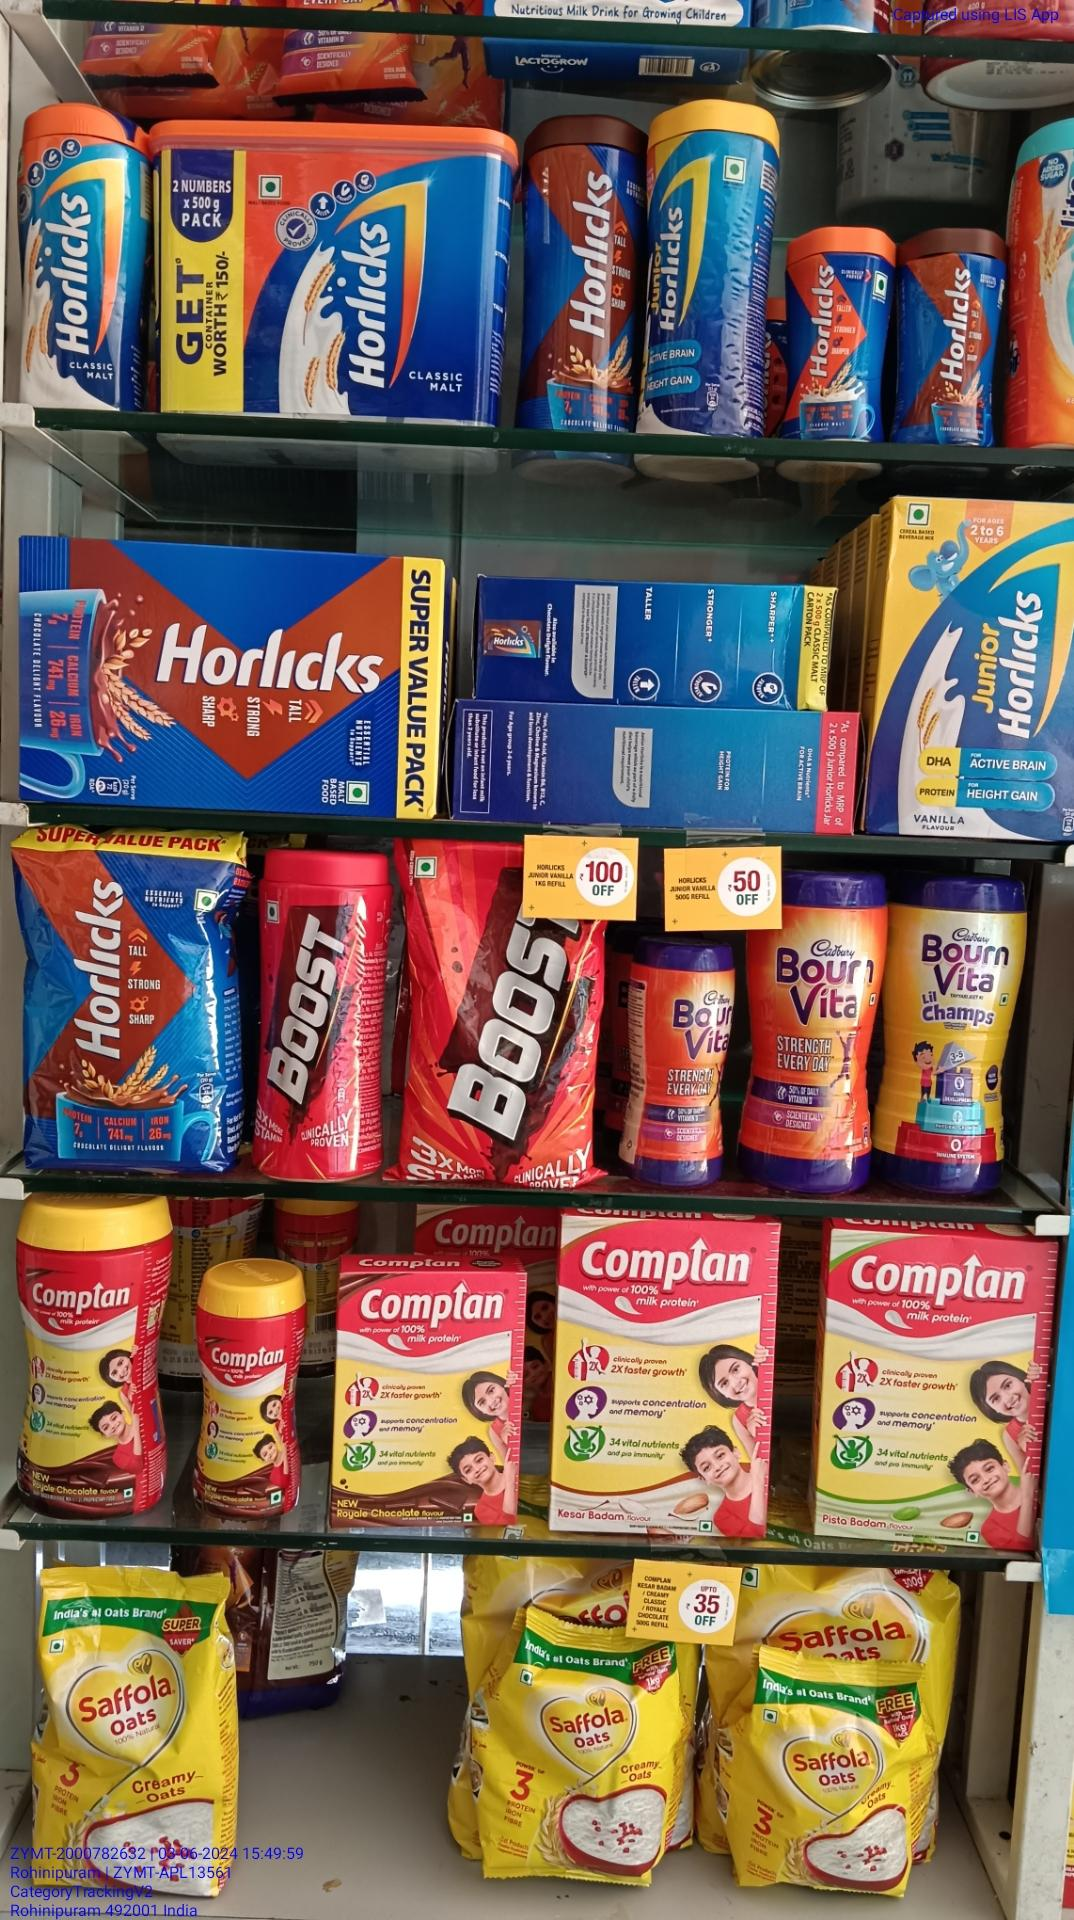BOURN_VITA_200_G_JAR: (624, 945, 719, 1188)
BOURN_VITA_500_G_JAR: (753, 878, 875, 1192)
COMPLAN_CHOCOLATE_200_GMS_JAR: (191, 1288, 301, 1520)
COMPLAN_CHOCOLATE_200_GMS_PACK: (330, 1270, 519, 1523)
COMPLAN_CHOCOLATE_500_GMS_JAR: (7, 1192, 179, 1509)
COMPLAN_KESAR_BADAM_500_GMS_PACK: (558, 1221, 767, 1551)
COMPLAN_PISTA_BADAM_500_GMS_PACK: (822, 1236, 1034, 1538)
HORLICKS_JUNIOR_VANILLA_500_GM_JAR: (645, 104, 769, 442)
HORLICK_CHOCOLATE_200_G_JAR: (904, 228, 995, 447)
HORLICK_CHOCOLATE_500_G_JAR: (888, 885, 1016, 1195), (526, 111, 631, 434)
HORLICK_CHOCOLATE_750_G_POUCH: (13, 827, 237, 1182)
HORLICK_CLASSIC_MALT_200_G_JAR: (784, 228, 879, 443)
HORLICK_CLASSIC_MALT_500_G_JAR: (16, 103, 135, 413)
HORLICK_MALT_1_KG_CONTAINER: (152, 121, 513, 431)
